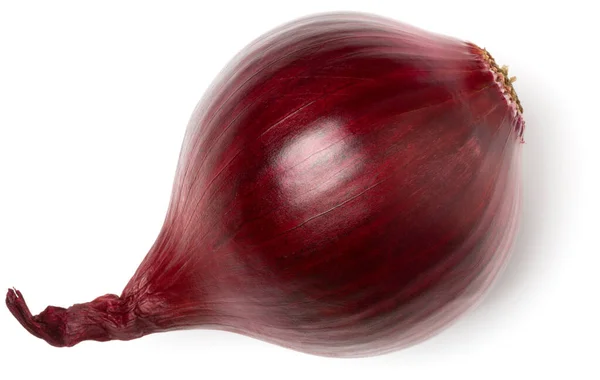onion: (24, 11, 541, 342)
